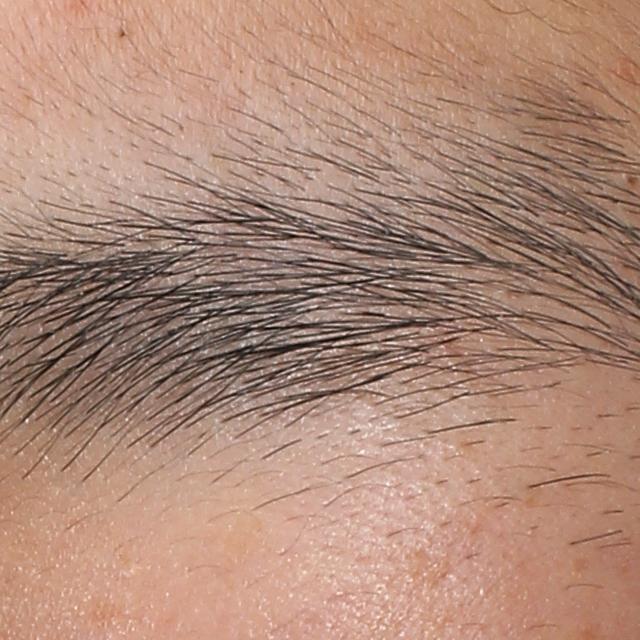comedo: (115, 23, 133, 41)
